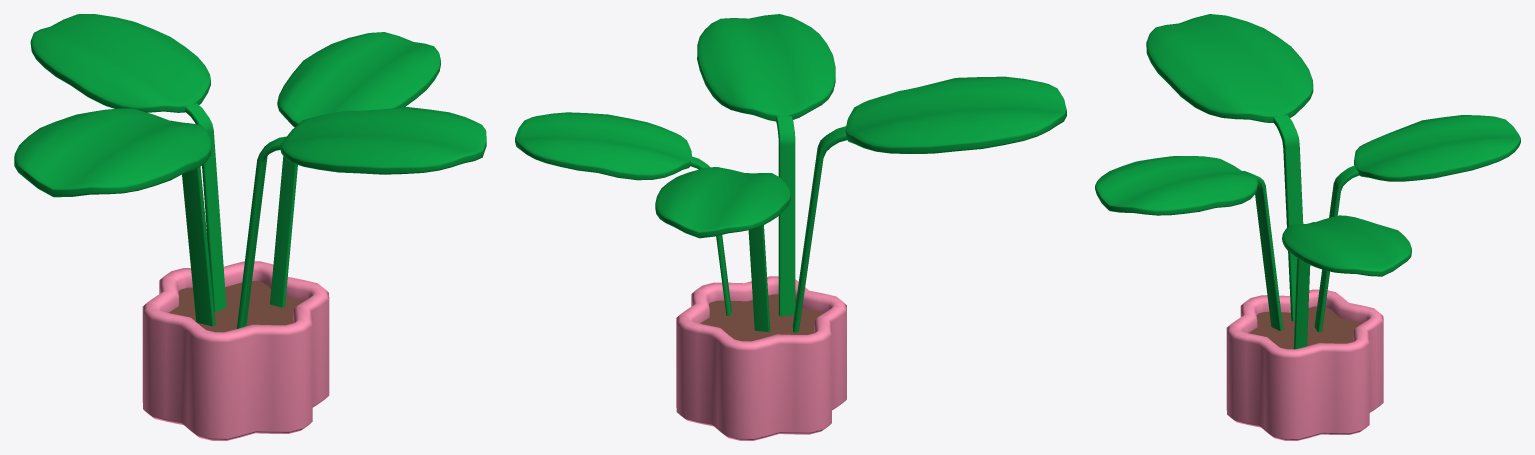
Rendered from City_9_Plant_2.glb.
The picture shows the model from 3 angles, left to right: view 1: azimuth 30°, elevation 25°; view 2: azimuth 150°, elevation 25°; view 3: azimuth 270°, elevation 25°; orthographic projection. The views are drawn at different scales.
Visible parts, largest first — view 1: City_9_Plant_2; view 2: City_9_Plant_2; view 3: City_9_Plant_2.
Boxes of the visible parts, bbox=[...] form: City_9_Plant_2: bbox=[14, 14, 486, 440]; City_9_Plant_2: bbox=[515, 14, 1066, 440]; City_9_Plant_2: bbox=[1095, 14, 1520, 440].
Size of the model in its own units: 2.35 by 1.57 by 2.08.
Materials: 1 (1 with a texture image).
